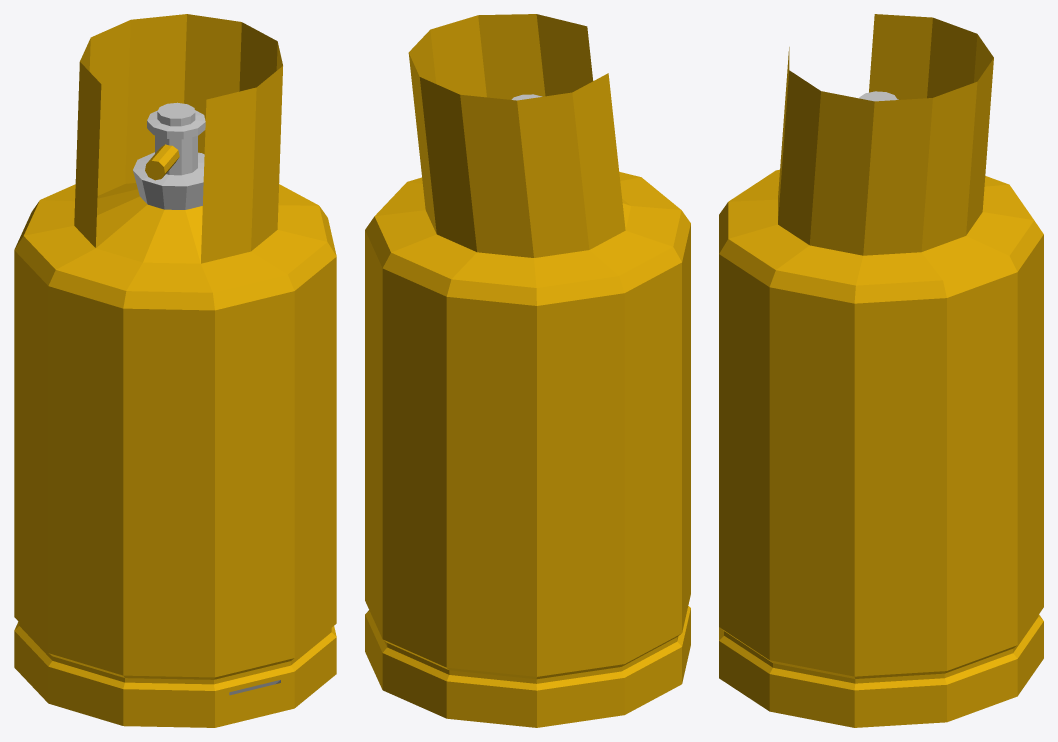
File: Gas.glb
3 views of the same model, side by side, from view 1: azimuth 30°, elevation 25°; view 2: azimuth 150°, elevation 25°; view 3: azimuth 270°, elevation 25° (orthographic).
Visible parts, largest first — view 1: Gas; view 2: Gas; view 3: Gas.
Boxes of the visible parts, x1,y1,x2,y2 form: Gas: [14, 14, 336, 727]; Gas: [365, 14, 690, 727]; Gas: [719, 14, 1043, 727].
Bounding box in the file's own units: 0.5939 × 1.21 × 0.5878.
